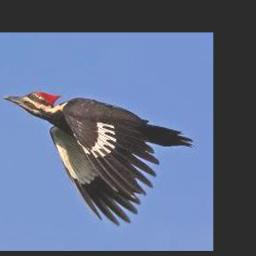Woodpecker: (4, 90, 194, 225)
